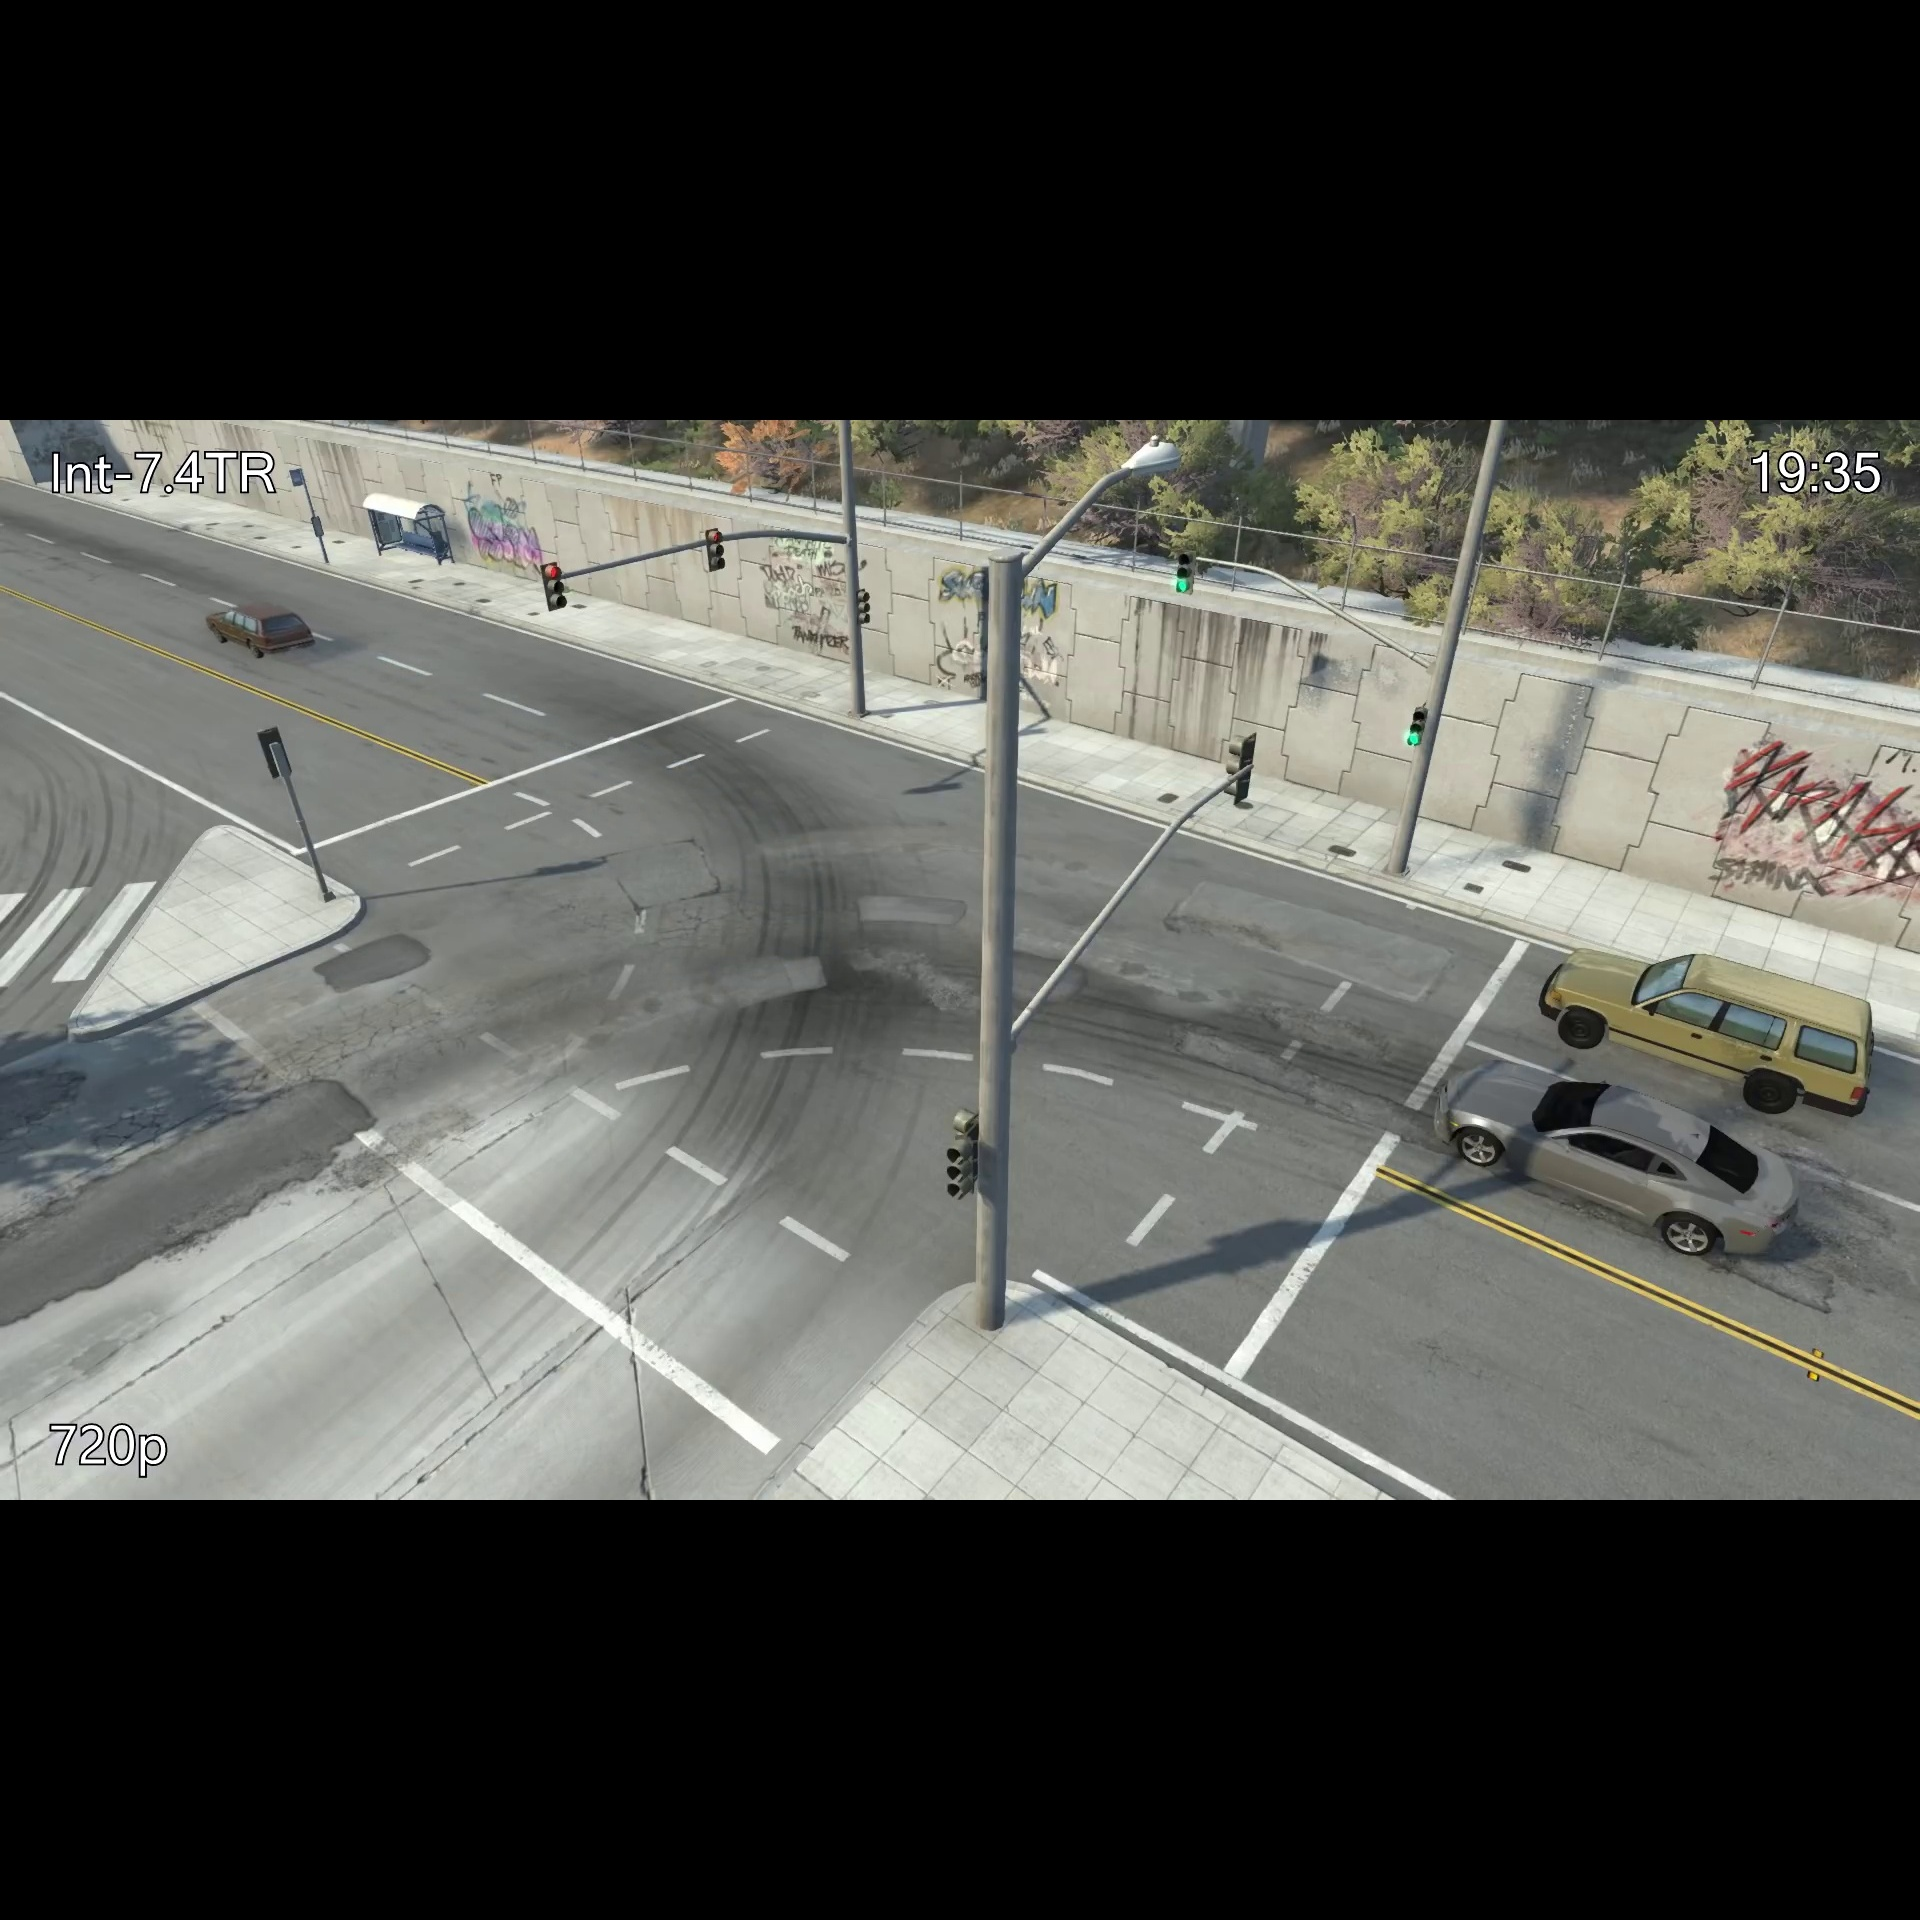vehicle: (1431, 1051, 1809, 1271), (1528, 935, 1885, 1129), (199, 594, 322, 665)
